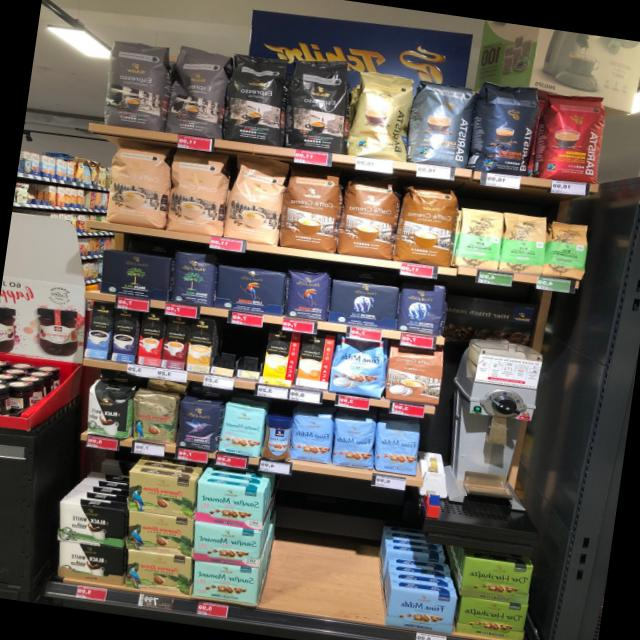AB Bohne: (396, 282, 448, 336)
AB Gemahlen: (328, 279, 401, 331)
Athiopien Bohne: (542, 218, 592, 281)
Athiopien Gemahlen: (452, 203, 506, 273), (498, 210, 551, 278)
BM Bohne: (169, 247, 219, 308)
BM Gemahlen: (99, 248, 173, 302)
BW Bohne: (83, 381, 134, 440)
BW Gemahlen: (56, 502, 125, 550), (57, 541, 125, 586)
Barista CB: (345, 68, 418, 161)
Barista CC: (409, 76, 480, 168)
Barista Espresso: (469, 79, 541, 176)
Barista Kolumbien: (532, 86, 611, 185)
C Fino Bohne: (174, 397, 224, 455)
CC Mild: (98, 138, 173, 230), (221, 155, 292, 248), (164, 147, 232, 239)
CC Vollmundig: (383, 344, 447, 407)
CC Vollmundig 36 Pads: (392, 180, 463, 269), (335, 173, 404, 262), (278, 169, 346, 254)
Colombia BB Bohne: (131, 388, 179, 445)
Colombia BB Gemahlen: (125, 510, 194, 557), (127, 471, 194, 519), (124, 550, 192, 596)
Empty Shelf: (258, 475, 392, 624), (236, 325, 266, 372), (212, 321, 241, 369)
Espresso Aromatisch: (100, 35, 174, 133), (163, 42, 232, 141)
Espresso Kraftig: (283, 53, 354, 156), (221, 49, 292, 148)
FM 36 Pads: (328, 336, 389, 400)
FM Bohne: (374, 415, 423, 477), (289, 408, 334, 464), (331, 416, 376, 471)
FM Gemahlen: (384, 585, 459, 635)
FM Instant: (260, 413, 294, 463)
Herzhatfe Mundig: (459, 556, 534, 606), (455, 596, 528, 640)
LG Bohne: (282, 266, 332, 323)
LG Gemahlen: (214, 264, 286, 317)
SM Bohne: (216, 400, 268, 459)
SM Gemahlen: (195, 482, 265, 531), (192, 521, 262, 569), (193, 561, 259, 605)
Simo CCMild: (260, 328, 301, 388)
Simo CCVollmundig: (295, 333, 336, 391)
Simo Decaff: (185, 318, 214, 375)
Simo Es Brazil: (137, 312, 167, 367)
Simo Es Caramel: (161, 315, 192, 371)
Simo Es Kraft: (111, 309, 138, 365)
Simo Es Vanilla: (84, 301, 114, 360)
